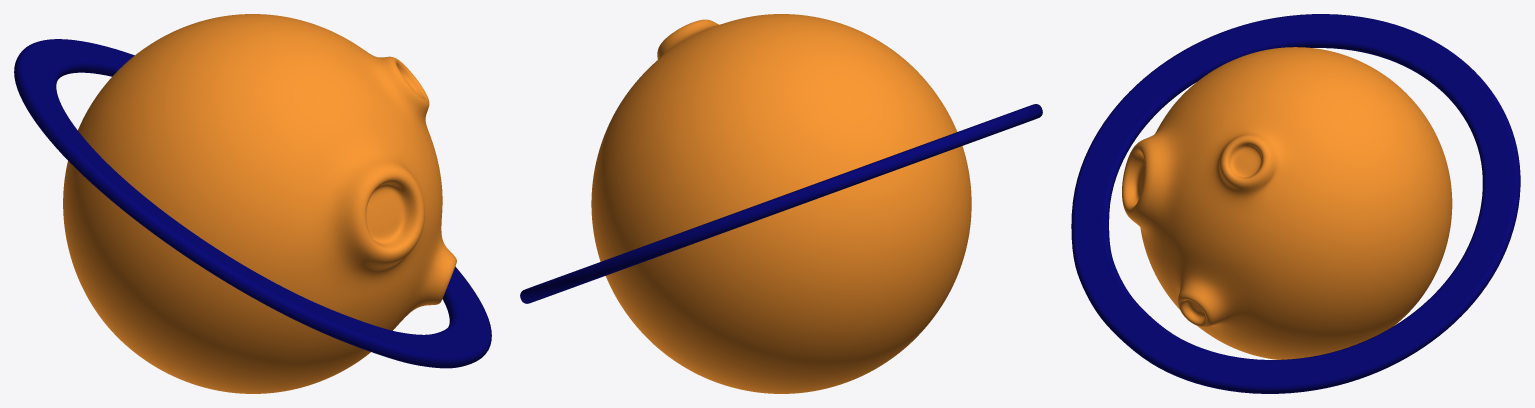
File: planet-5.glb
3 renders of one model, left to right at view 1: azimuth 30°, elevation 25°; view 2: azimuth 150°, elevation 25°; view 3: azimuth 270°, elevation 25°, orthographic. The views are drawn at different scales.
Visible parts, largest first — view 1: Roundcube, Roundcube.001; view 2: Roundcube, Roundcube.001; view 3: Roundcube, Roundcube.001.
Boxes of the visible parts, x1,y1,x2,y2 form: Roundcube: (63,14,456,393); Roundcube.001: (14,39,491,368); Roundcube: (591,14,971,393); Roundcube.001: (520,104,1042,303); Roundcube: (1122,47,1452,359); Roundcube.001: (1071,14,1520,393).
Size of the model in its own units: 2.77 by 2.18 by 3.11.
